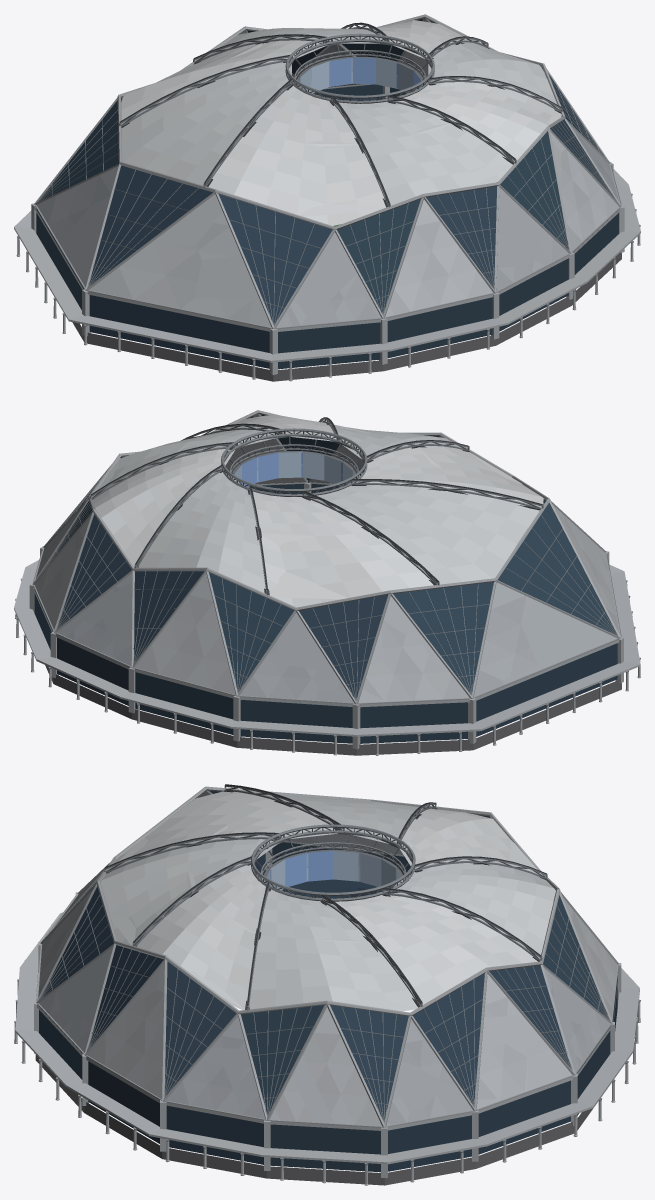
Rendered from mercedes-benz-stadium.glb.
3 views of the same model, one above another, from view 1: azimuth 30°, elevation 25°; view 2: azimuth 150°, elevation 25°; view 3: azimuth 270°, elevation 25° (orthographic). The views are drawn at different scales.
Parts seen in each view (by area): view 1: lod0_lm_metal, lod0_lm_lit, lod1_lm_stone, lod0_lm_glass, lod0_bld_glass, lod0_lm_stone, lod1_lm_glow, lod1_lm_lit, lod0_lm_dark; view 2: lod0_lm_metal, lod0_lm_lit, lod1_lm_stone, lod0_lm_glass, lod0_bld_glass, lod0_lm_stone, lod1_lm_glow, lod1_lm_lit, lod0_lm_dark; view 3: lod0_lm_metal, lod0_lm_lit, lod1_lm_stone, lod0_lm_glass, lod0_bld_glass, lod0_lm_stone, lod1_lm_glow, lod1_lm_lit, lod0_lm_dark.
Boxes of the visible parts, bbox=[...] form: lod0_lm_metal: bbox=[14, 14, 640, 362]; lod0_lm_lit: bbox=[121, 20, 561, 225]; lod1_lm_stone: bbox=[31, 18, 624, 381]; lod0_lm_glass: bbox=[41, 30, 600, 324]; lod0_bld_glass: bbox=[36, 84, 618, 369]; lod0_lm_stone: bbox=[16, 97, 640, 381]; lod1_lm_glow: bbox=[299, 58, 420, 93]; lod1_lm_lit: bbox=[156, 28, 560, 216]; lod0_lm_dark: bbox=[120, 22, 561, 203]; lod0_lm_metal: bbox=[14, 410, 640, 736]; lod0_lm_lit: bbox=[92, 415, 543, 607]; lod1_lm_stone: bbox=[29, 414, 623, 755]; lod0_lm_glass: bbox=[51, 414, 615, 699]; lod0_bld_glass: bbox=[34, 483, 617, 743]; lod0_lm_stone: bbox=[15, 578, 640, 755]; lod1_lm_glow: bbox=[234, 452, 353, 486]; lod1_lm_lit: bbox=[93, 421, 521, 599]; lod0_lm_dark: bbox=[90, 417, 542, 591]; lod0_lm_metal: bbox=[15, 785, 639, 1164]; lod0_lm_lit: bbox=[100, 791, 555, 1011]; lod1_lm_stone: bbox=[34, 790, 621, 1185]; lod0_lm_glass: bbox=[43, 791, 606, 1121]; lod0_bld_glass: bbox=[39, 842, 617, 1172]; lod0_lm_stone: bbox=[14, 884, 640, 1185]; lod1_lm_glow: bbox=[266, 850, 399, 890]; lod1_lm_lit: bbox=[110, 824, 542, 1009]; lod0_lm_dark: bbox=[104, 784, 546, 1006].
Size of the model in its own units: 322 by 98.01 by 277.
